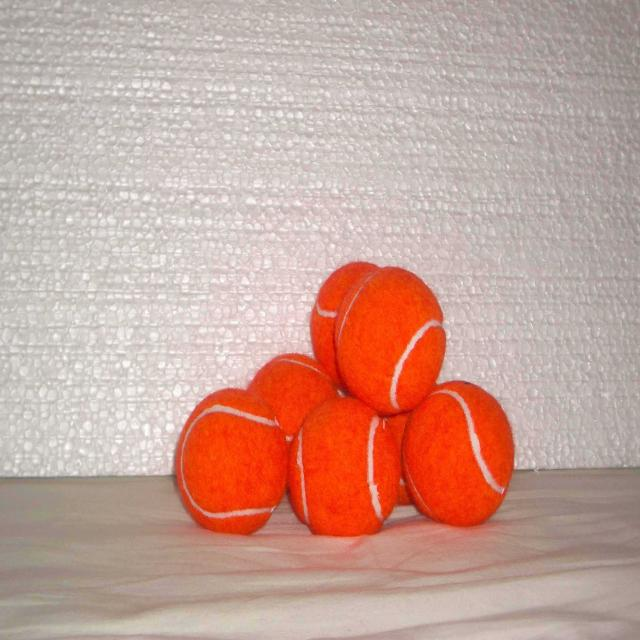Tennis_Ball: (332, 259, 440, 413), (407, 370, 510, 528), (179, 387, 282, 526), (296, 398, 392, 537), (253, 352, 332, 476), (311, 263, 372, 370)
